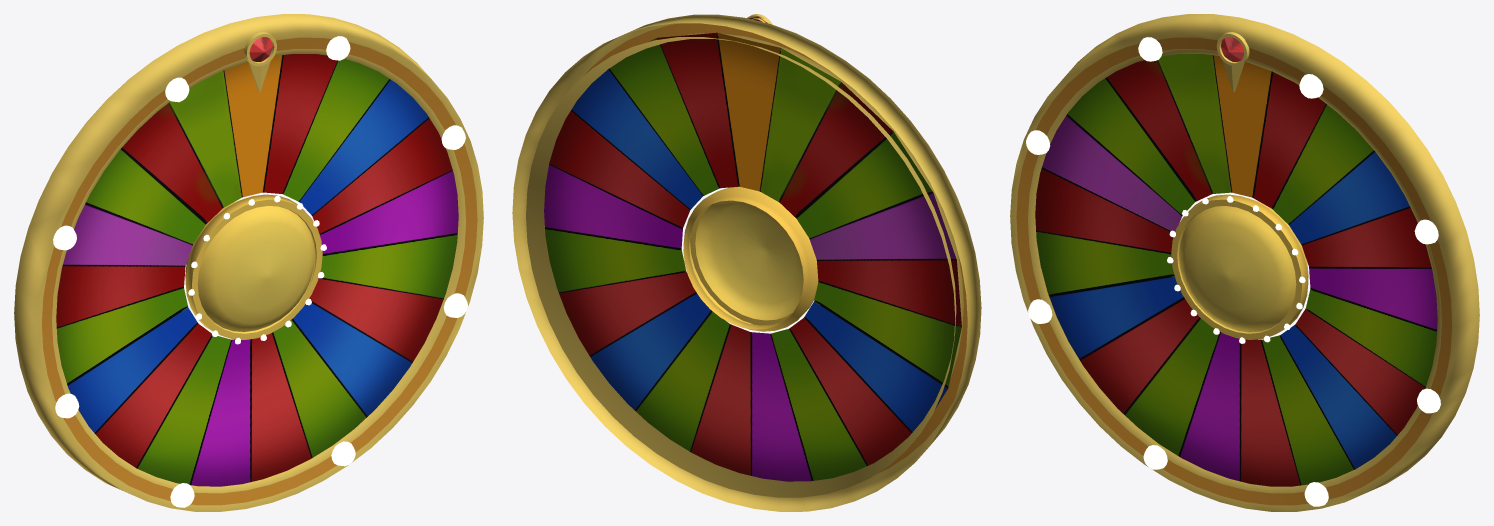
Rendered from fortuneWheel_v4.glb.
3 views of the same model, side by side, from view 1: azimuth 30°, elevation 25°; view 2: azimuth 150°, elevation 25°; view 3: azimuth 330°, elevation 25° (orthographic).
Parts seen in each view (by area): view 1: Plates.009, Wheel_Wheel_MAT_0, Cylinder, OuterLight, pointer, InnerLight; view 2: Plates.009, Wheel_Wheel_MAT_0, Cylinder; view 3: Plates.009, Wheel_Wheel_MAT_0, Cylinder, OuterLight, pointer, InnerLight.
Boxes of the visible parts, x1,y1,x2,y2 form: Plates.009: [56, 54, 458, 486]; Wheel_Wheel_MAT_0: [14, 14, 483, 511]; Cylinder: [185, 194, 322, 339]; OuterLight: [53, 36, 467, 507]; pointer: [244, 32, 276, 92]; InnerLight: [188, 195, 326, 344]; Plates.009: [544, 32, 961, 481]; Wheel_Wheel_MAT_0: [512, 14, 981, 511]; Cylinder: [683, 186, 818, 331]; Plates.009: [1035, 53, 1437, 486]; Wheel_Wheel_MAT_0: [1010, 14, 1479, 511]; Cylinder: [1171, 194, 1308, 339]; OuterLight: [1026, 37, 1440, 506]; pointer: [1216, 32, 1249, 92]; InnerLight: [1167, 196, 1305, 343].
Size of the model in its own units: 3.54 by 3.54 by 0.3365.
Materials: 1 (1 with a texture image).
